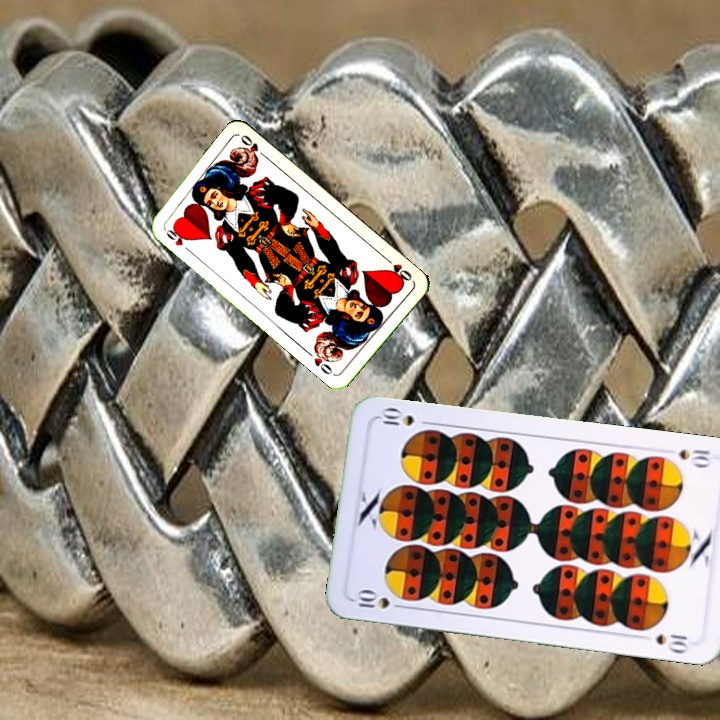HO: (381, 253, 415, 285), (160, 223, 190, 249)
S10: (353, 588, 408, 611), (675, 445, 713, 470)
